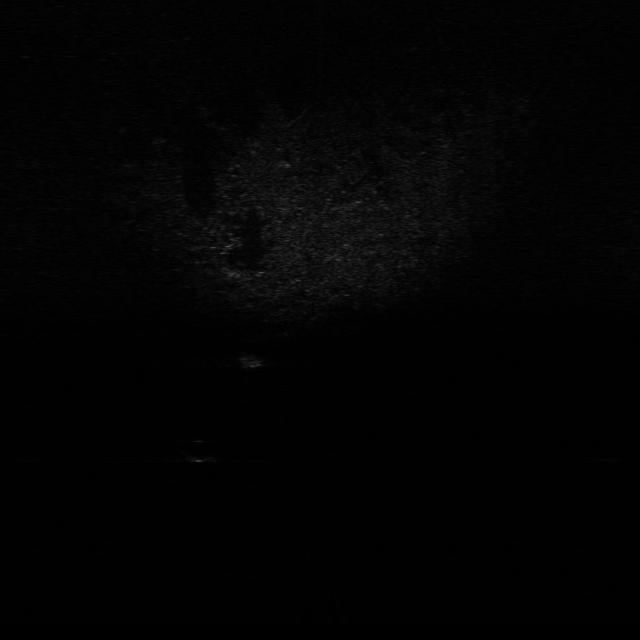ball: (178, 439, 220, 466)
cube: (236, 350, 268, 374)
